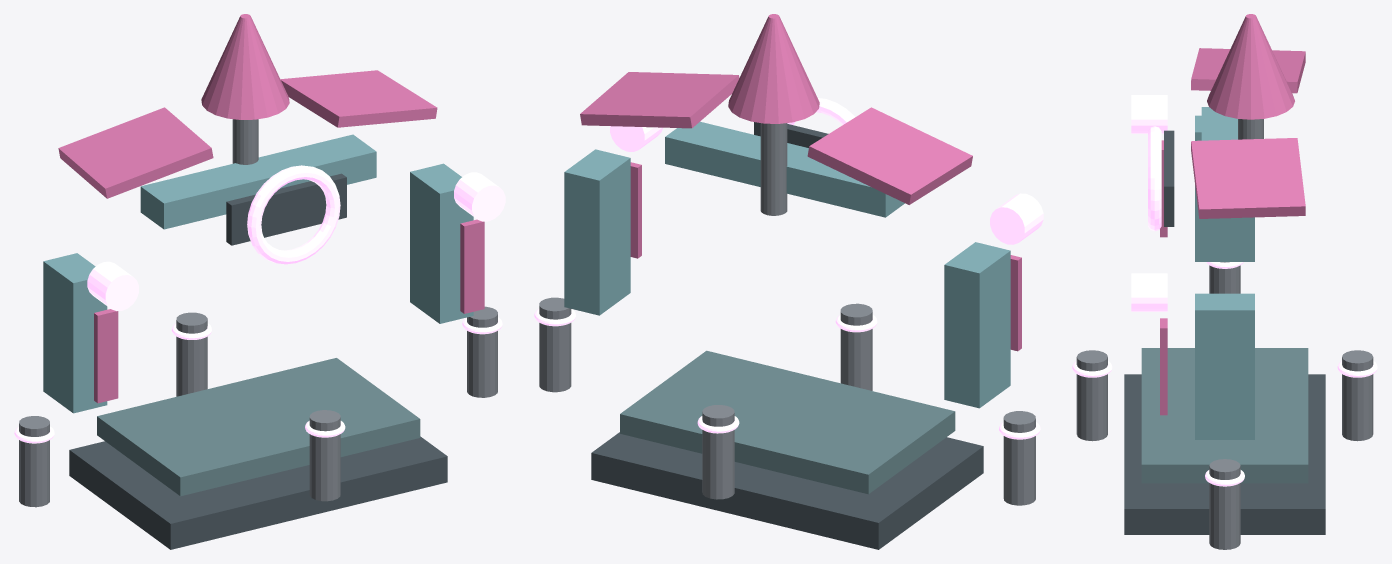
Rendered from asset.glb.
The picture shows the model from 3 angles, left to right: view 1: azimuth 30°, elevation 25°; view 2: azimuth 150°, elevation 25°; view 3: azimuth 270°, elevation 25°; orthographic projection. The views are drawn at different scales.
Visible parts, largest first — view 1: RaisedDeck, Foundation, CrossBeam, CanopyWing_-1, Pylon_-1, Pylon_1, CanopyWing_1, TopMarker, SignPanel, IdentityRing, Bollard_3, Bollard_2 (+7 smaller); view 2: RaisedDeck, Foundation, Pylon_1, Pylon_-1, CanopyWing_-1, CrossBeam, CanopyWing_1, TopMarker, Bollard_2, Bollard_1, Bollard_0, CenterMast (+6 smaller); view 3: RaisedDeck, Foundation, Pylon_1, CanopyWing_1, TopMarker, Bollard_1, Bollard_3, Bollard_0, CanopyWing_-1, Pylon_-1, CrossBeam, Lamp_1 (+6 smaller).
Boxes of the visible parts, x1=… form: RaisedDeck: x1=97, y1=358, x2=420, y2=496; Foundation: x1=69, y1=436, x2=447, y2=549; CrossBeam: x1=140, y1=134, x2=376, y2=229; CanopyWing_-1: x1=58, y1=107, x2=213, y2=198; Pylon_-1: x1=43, y1=253, x2=107, y2=413; Pylon_1: x1=410, y1=163, x2=473, y2=323; CanopyWing_1: x1=280, y1=70, x2=437, y2=127; TopMarker: x1=201, y1=14, x2=289, y2=119; SignPanel: x1=226, y1=173, x2=346, y2=245; IdentityRing: x1=247, y1=165, x2=340, y2=264; Bollard_3: x1=309, y1=410, x2=340, y2=501; Bollard_2: x1=19, y1=416, x2=49, y2=507; RaisedDeck: x1=620, y1=350, x2=955, y2=494; Foundation: x1=591, y1=432, x2=983, y2=549; Pylon_1: x1=564, y1=149, x2=630, y2=315; Pylon_-1: x1=944, y1=242, x2=1010, y2=408; CanopyWing_-1: x1=807, y1=107, x2=972, y2=204; CrossBeam: x1=665, y1=121, x2=904, y2=217; CanopyWing_1: x1=580, y1=72, x2=739, y2=128; TopMarker: x1=728, y1=14, x2=819, y2=123; Bollard_2: x1=1003, y1=411, x2=1035, y2=505; Bollard_1: x1=702, y1=405, x2=734, y2=499; Bollard_0: x1=539, y1=297, x2=571, y2=392; CenterMast: x1=760, y1=123, x2=787, y2=215; RaisedDeck: x1=1141, y1=348, x2=1308, y2=483; Foundation: x1=1124, y1=374, x2=1325, y2=534; Pylon_1: x1=1195, y1=293, x2=1254, y2=439; CanopyWing_1: x1=1191, y1=138, x2=1305, y2=218; TopMarker: x1=1207, y1=14, x2=1294, y2=119; Bollard_1: x1=1342, y1=350, x2=1373, y2=441; Bollard_3: x1=1076, y1=350, x2=1107, y2=441; Bollard_0: x1=1209, y1=459, x2=1240, y2=549; CanopyWing_-1: x1=1191, y1=48, x2=1305, y2=93; Pylon_-1: x1=1195, y1=115, x2=1254, y2=261; CrossBeam: x1=1201, y1=107, x2=1248, y2=236; Lamp_1: x1=1131, y1=273, x2=1167, y2=311.
Bounding box in the file's own units: 4.27 × 3.83 × 2.35.
